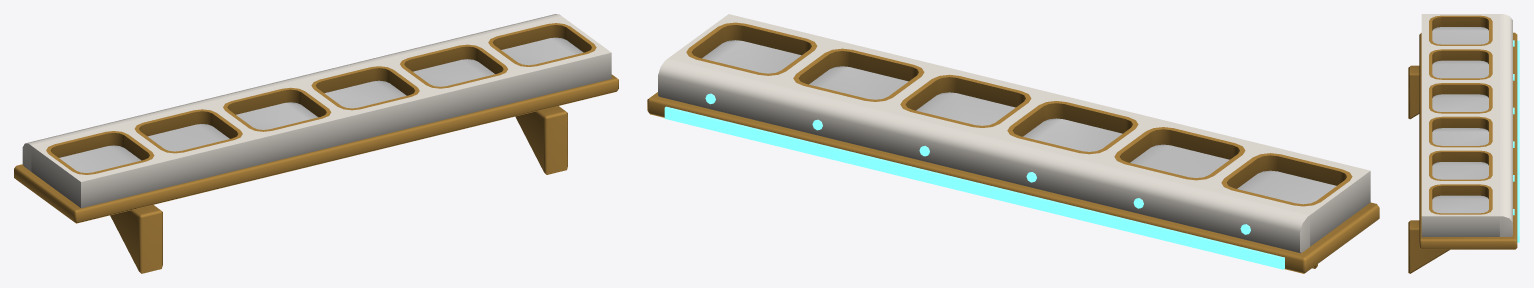
Rendered from plinth_tray.fbx.
3 views of the same model, side by side, from view 1: azimuth 30°, elevation 25°; view 2: azimuth 150°, elevation 25°; view 3: azimuth 270°, elevation 25° (orthographic). The views are drawn at different scales.
Visible parts, largest first — view 1: plinth_tray; view 2: plinth_tray; view 3: plinth_tray.
Part boxes in pixels (<box>): plinth_tray: <box>14,14,618,273</box>; plinth_tray: <box>647,14,1379,273</box>; plinth_tray: <box>1408,14,1519,273</box>.
Size of the model in its own units: 1.13 by 0.1972 by 0.255.
